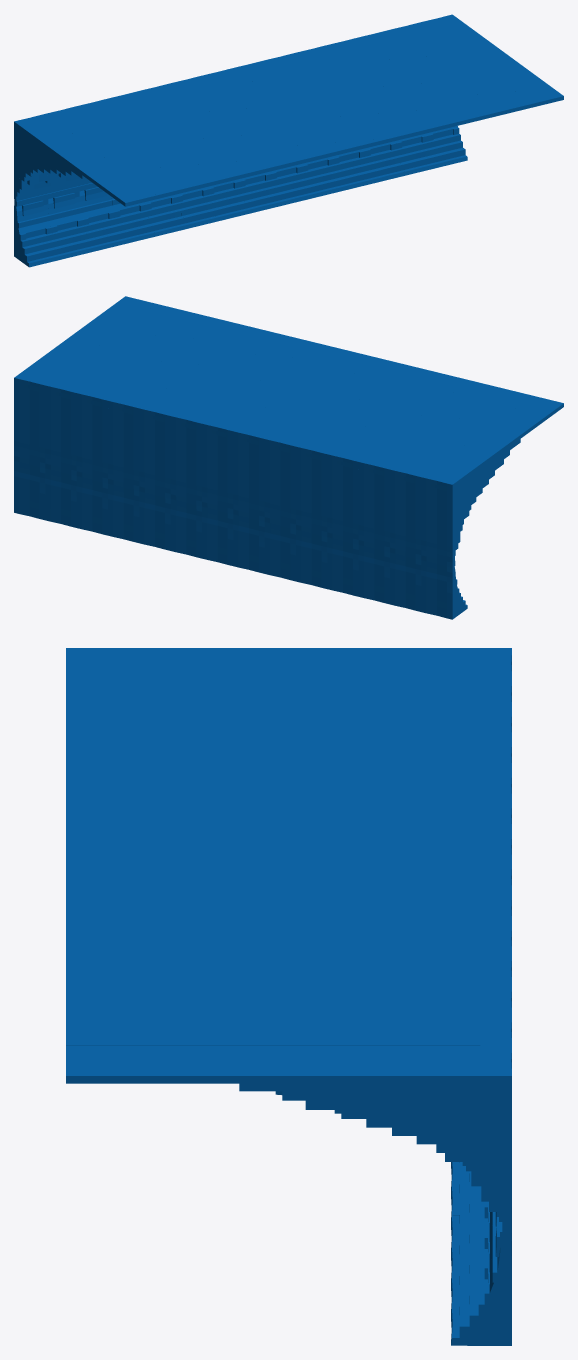
Rendered from wave_mesh 1.fbx.
3 renders of one model, top to bottom at view 1: azimuth 30°, elevation 25°; view 2: azimuth 150°, elevation 25°; view 3: azimuth 270°, elevation 25°, orthographic. The views are drawn at different scales.
Visible parts, largest first — view 1: a-wave-particle--blue-6220; view 2: a-wave-particle--blue-6220; view 3: a-wave-particle--blue-6220.
Boxes of the visible parts, x1,y1,x2,y2 form: a-wave-particle--blue-6220: (14,14,563,267); a-wave-particle--blue-6220: (14,296,563,619); a-wave-particle--blue-6220: (66,648,511,1345).
Size of the model in its own units: 893 by 263 by 393.
Materials: 1 (1 with a texture image).
